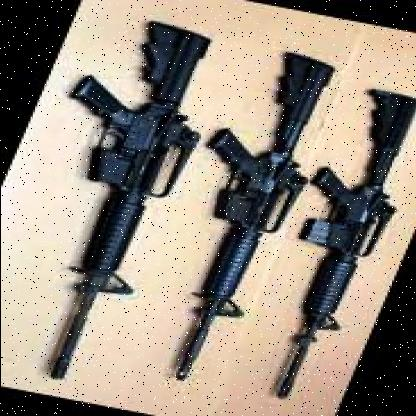rifle: (0, 4, 237, 385), (112, 40, 350, 390), (216, 76, 416, 410)
